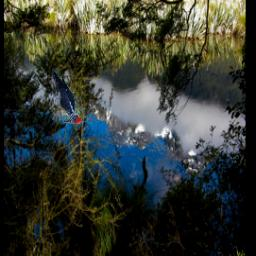Woodpecker: (52, 69, 82, 125)
